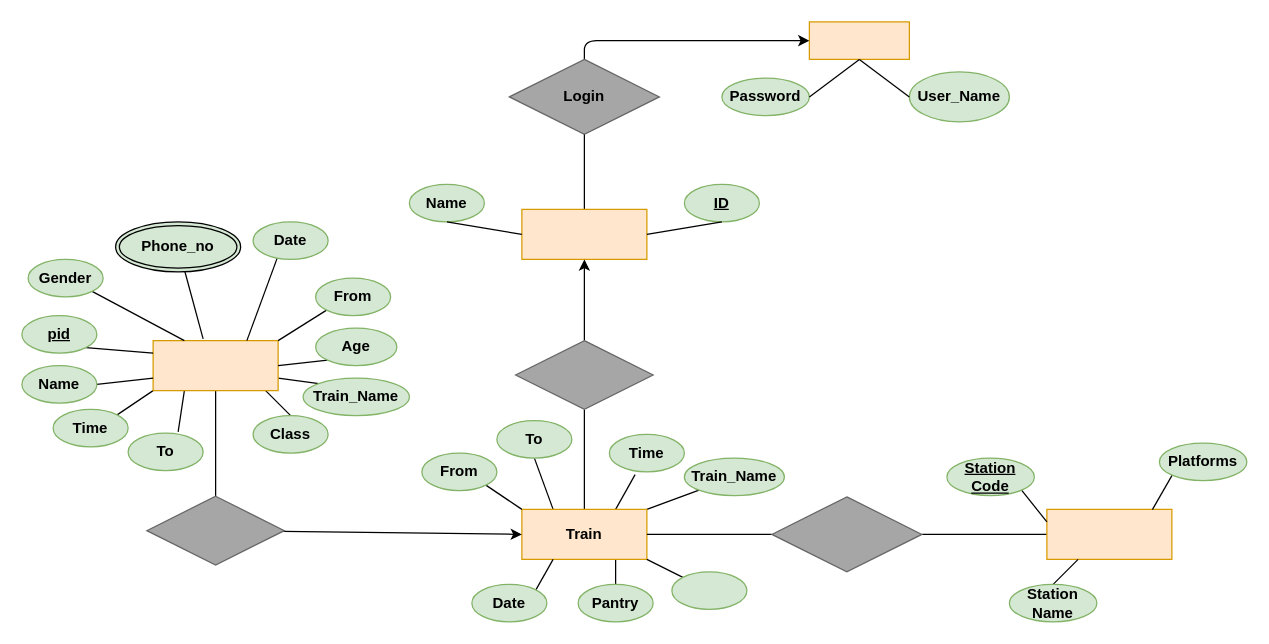
Image size: 1269x644. Some labels were removed from this diagram. Each missing label, with the box of its shape:
Admin (Manager): (521, 208, 647, 259)
Login System: (808, 21, 909, 59)
Passangers: (152, 339, 278, 391)
Station: (1046, 508, 1172, 559)
Stops At: (771, 496, 922, 572)
Train_No: (671, 571, 747, 609)
Travels in: (146, 495, 284, 565)
Update info: (514, 339, 653, 409)
